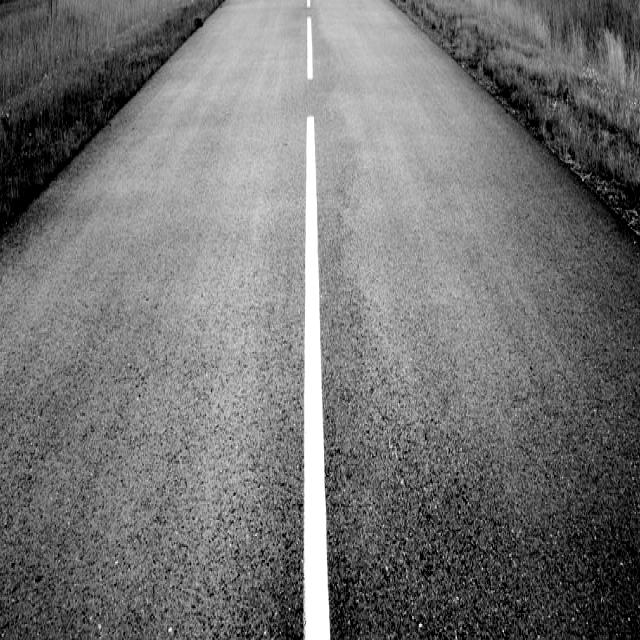cleat: (50, 19, 626, 640)
